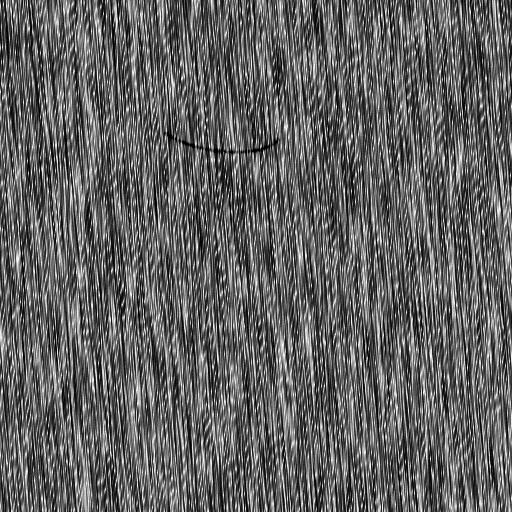scratch: (162, 127, 284, 160)
